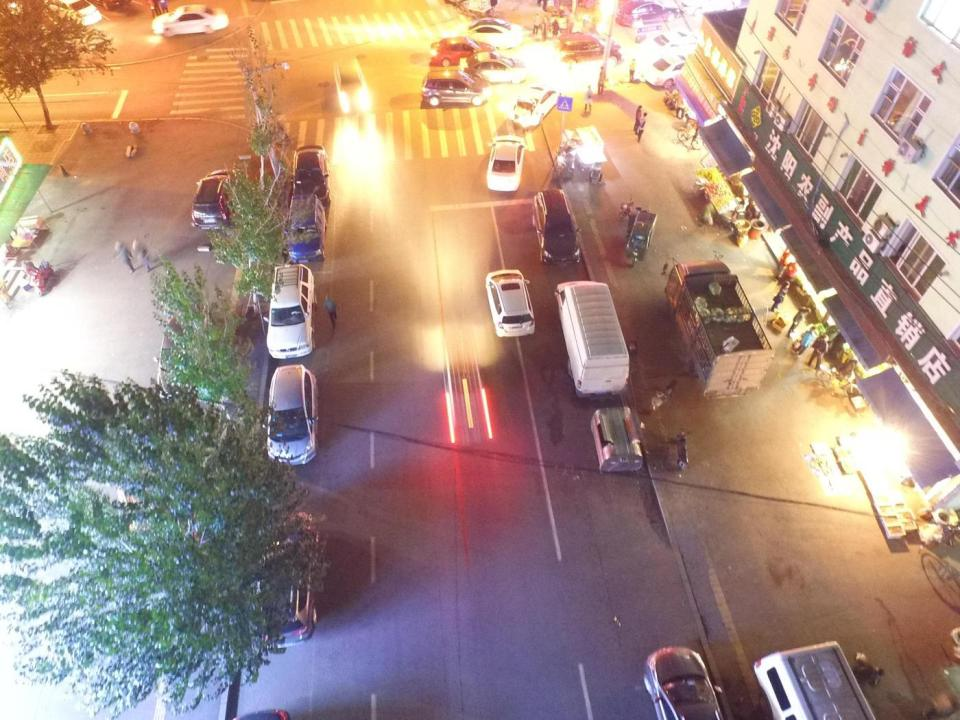car: (248, 509, 318, 648), (642, 644, 722, 720), (266, 363, 320, 466), (156, 313, 215, 407), (589, 403, 644, 473), (485, 268, 535, 338), (191, 168, 240, 230), (420, 68, 492, 108), (547, 31, 624, 68), (151, 3, 230, 38), (458, 50, 530, 86), (291, 144, 332, 207), (510, 80, 560, 129), (485, 134, 525, 192), (332, 53, 370, 112), (640, 50, 696, 90), (428, 35, 496, 67), (613, 0, 681, 28), (455, 23, 521, 50), (642, 27, 701, 56), (43, 0, 102, 27), (466, 14, 524, 36), (680, 0, 742, 15), (228, 708, 292, 720), (80, 0, 134, 11)
truck: (664, 258, 776, 400)
van: (753, 640, 876, 720), (554, 279, 631, 401), (264, 261, 317, 360), (531, 188, 581, 269), (284, 192, 327, 264)
